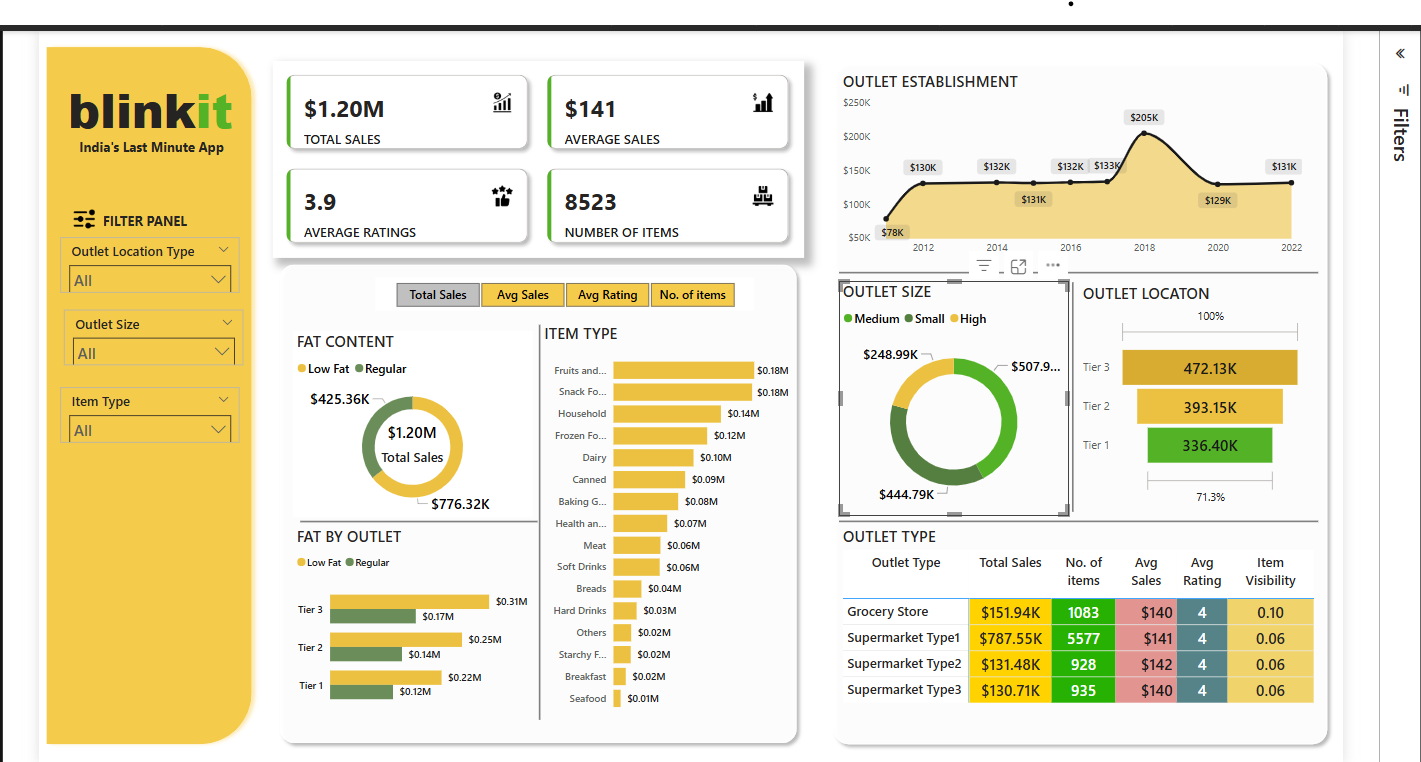

This screenshot's page, from the dashboard's own definition file:
{"tool":"powerbi","page":{"name":"Dashboard","canvas":[1600,900],"ordinal":0},"visuals":[{"type":"shape","box":[0,10,270,873.3],"z":0},{"type":"textbox","box":[30,48.6,232.9,95.7],"z":1000},{"type":"textbox","box":[44.3,125.7,205.7,37.1],"z":2000},{"type":"cardVisual","fields":{"Data":["BlinkIT Grocery Data.Total Sales","BlinkIT Grocery Data.Avg Sales","BlinkIT Grocery Data.Avg Rating","BlinkIT Grocery Data.Number of items"]},"box":[286.7,36.7,651.7,241.7],"z":3000},{"type":"shape","box":[286.7,278.3,651.7,605],"z":4000},{"type":"donutChart","title":"FAT CONTENT","fields":{"Y":["BlinkIT Grocery Data.Total Sales"],"Category":["BlinkIT Grocery Data.Item Fat Content"]},"box":[311.7,367.3,294.3,228.6],"z":5000},{"type":"slicer","fields":{"Values":["Metrics.Metrics"]},"box":[413.2,301.6,464.5,40.7],"z":6000},{"type":"card","fields":{"Values":["BlinkIT Grocery Data.Total Sales"]},"box":[406.7,456.7,103.3,95],"z":7000},{"type":"clusteredBarChart","title":"FAT BY OUTLET","fields":{"Y":["BlinkIT Grocery Data.Total Sales"],"Category":["BlinkIT Grocery Data.Outlet Location Type"],"Series":["BlinkIT Grocery Data.Item Fat Content"]},"box":[311.7,606.7,295,238.3],"z":8000},{"type":"shape","box":[320,580,291.4,44.3],"z":9000},{"type":"shape","box":[595,360,38.3,485],"z":10000},{"type":"barChart","title":"ITEM TYPE","fields":{"Y":["BlinkIT Grocery Data.Total Sales"],"Category":["BlinkIT Grocery Data.Item Type"]},"box":[615,356.7,310,488.3],"z":11000},{"type":"shape","box":[966.7,30,623.3,853.3],"z":12000},{"type":"lineChart","title":"OUTLET ESTABLISHMENT","fields":{"Category":["BlinkIT Grocery Data.Outlet Establishment Year"],"Y":["BlinkIT Grocery Data.Total Sales"]},"box":[981.7,48.3,573.3,235],"z":13000},{"type":"shape","box":[981.7,279,588.1,34.7],"z":14000},{"type":"donutChart","title":"OUTLET SIZE","fields":{"Y":["BlinkIT Grocery Data.Total Sales"],"Category":["BlinkIT Grocery Data.Outlet Size"]},"box":[981.7,306.1,282,289.5],"z":15000},{"type":"shape","box":[1248.3,308.3,40,281.7],"z":16000},{"type":"funnel","title":"OUTLET LOCATON","fields":{"Y":["Sum(BlinkIT Grocery Data.Sales)"],"Category":["BlinkIT Grocery Data.Outlet Location Type"]},"box":[1276.7,308.3,278.3,280],"z":17000},{"type":"shape","box":[981.7,585.1,588.1,34.7],"z":18000},{"type":"pivotTable","title":"OUTLET TYPE","fields":{"Rows":["BlinkIT Grocery Data.Outlet Type"],"Values":["BlinkIT Grocery Data.Total Sales","BlinkIT Grocery Data.No. of items","BlinkIT Grocery Data.Avg Sales","BlinkIT Grocery Data.Avg Rating","Avg(BlinkIT Grocery Data.Item Visibility)"]},"box":[981.7,606.7,588.3,238.3],"z":19000},{"type":"slicer","fields":{"Values":["BlinkIT Grocery Data.Outlet Location Type"]},"box":[26.7,253.3,220,68.3],"z":20000},{"type":"slicer","fields":{"Values":["BlinkIT Grocery Data.Outlet Size"]},"box":[30,341.7,220,68.3],"z":21000},{"type":"slicer","fields":{"Values":["BlinkIT Grocery Data.Item Type"]},"box":[26.7,436.7,220,68.3],"z":22000},{"type":"textbox","box":[74.2,215.7,123.7,37.7],"z":23000},{"type":"image","box":[36.5,206.6,37.7,46.7],"z":25000}]}

Visuals, with their boxes on the page's 1600x900 design canvas (x1, y1, x2, y2). These are canvas units, not pixel positions in the 1421x762 screenshot, which may show the page scaled, cropped or inside an application window:
shape: 0/10/270/883
textbox: 30/49/263/144
textbox: 44/126/250/163
cardVisual - BlinkIT Grocery Data.Total Sales x BlinkIT Grocery Data.Avg Sales: 287/37/938/278
shape: 287/278/938/883
"FAT CONTENT" donutChart: 312/367/606/596
slicer - Metrics.Metrics: 413/302/878/342
card - BlinkIT Grocery Data.Total Sales: 407/457/510/552
"FAT BY OUTLET" clusteredBarChart: 312/607/607/845
shape: 320/580/611/624
shape: 595/360/633/845
"ITEM TYPE" barChart: 615/357/925/845
shape: 967/30/1590/883
"OUTLET ESTABLISHMENT" lineChart: 982/48/1555/283
shape: 982/279/1570/314
"OUTLET SIZE" donutChart: 982/306/1264/596
shape: 1248/308/1288/590
"OUTLET LOCATON" funnel: 1277/308/1555/588
shape: 982/585/1570/620
"OUTLET TYPE" pivotTable: 982/607/1570/845
slicer - BlinkIT Grocery Data.Outlet Location Type: 27/253/247/322
slicer - BlinkIT Grocery Data.Outlet Size: 30/342/250/410
slicer - BlinkIT Grocery Data.Item Type: 27/437/247/505
textbox: 74/216/198/253
image: 36/207/74/253
